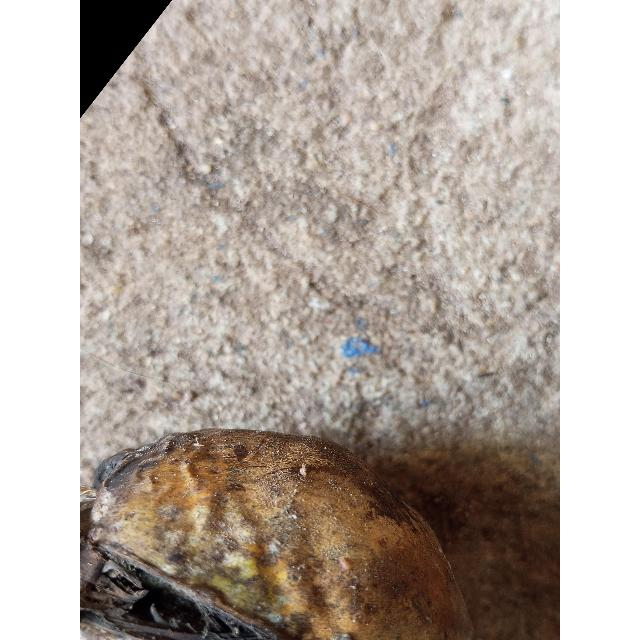damaged: (81, 429, 472, 640)
